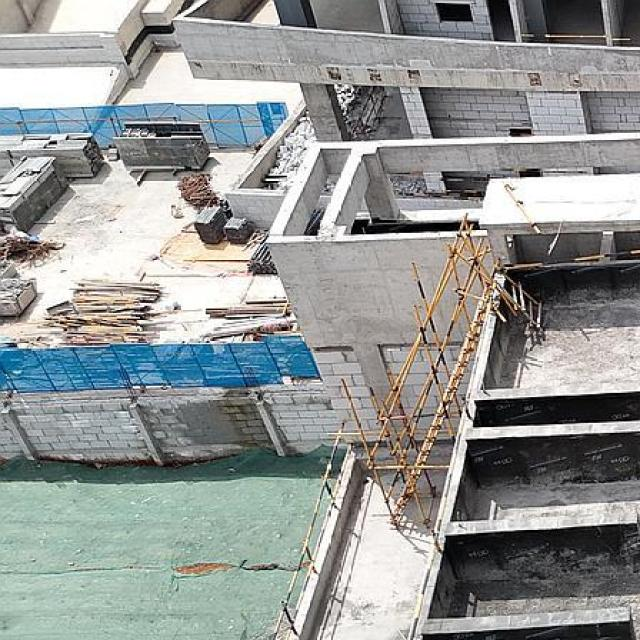edge_guardrail: (405, 290, 496, 640), (270, 423, 356, 640), (503, 249, 640, 271), (348, 87, 381, 140), (442, 176, 488, 194), (521, 33, 606, 38), (611, 38, 640, 42)
